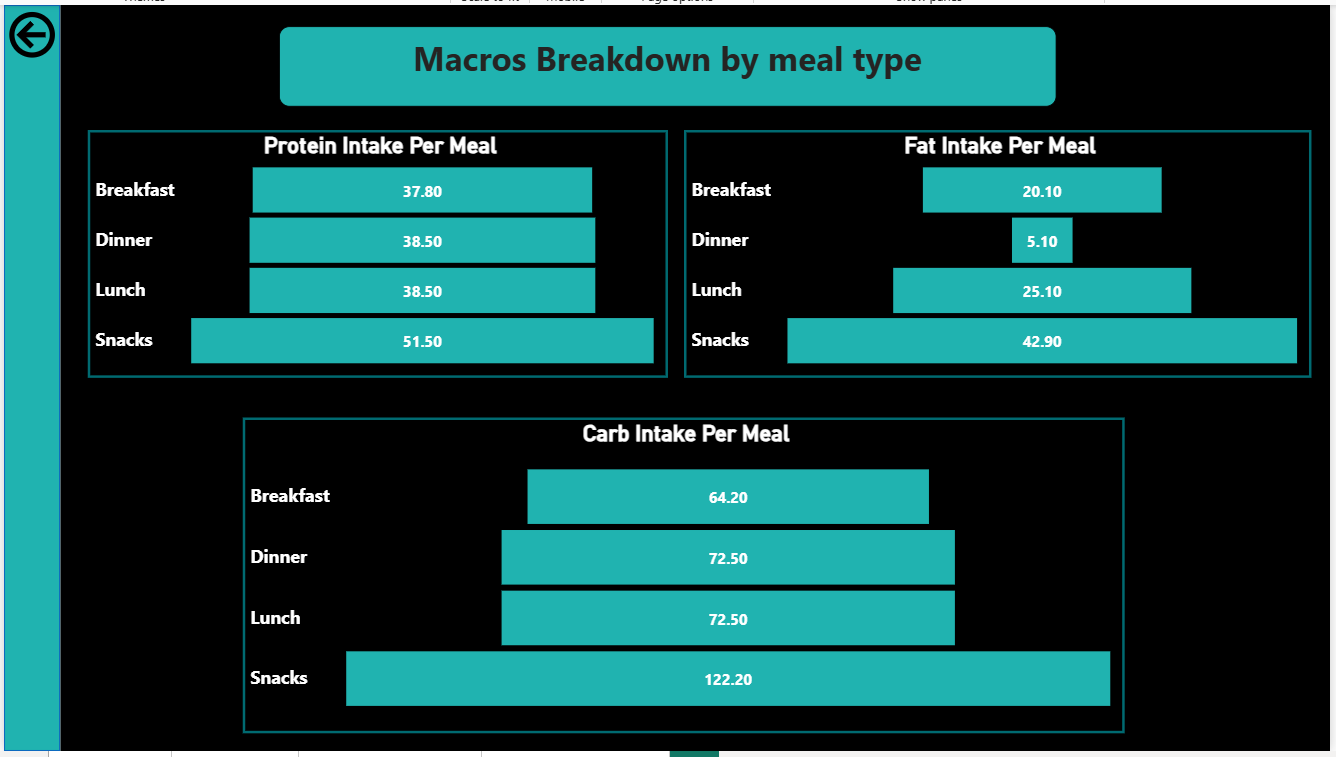

The dashboard page shown, as its layout file describes it:
{"tool":"powerbi","page":{"name":"Macros_Breakdown","canvas":[1280,720],"ordinal":2},"visuals":[{"type":"funnel","title":"Protein Intake Per Meal","fields":{"Y":["All_measure.Breakfast_Protein","All_measure.Dinner_Protein","All_measure.Lunch_Protein","All_measure.Snacks_Protein"]},"box":[70.5,77.1,560.9,303.4],"z":0},{"type":"funnel","title":"Carb Intake Per Meal","fields":{"Y":["All_measure.Breakfast_Carb","All_measure.Dinner_Carb","All_measure.Lunch_Carb","All_measure.Snacks_Carb"]},"box":[206.3,394.5,851.7,305.2],"z":1000},{"type":"funnel","title":"Fat Intake Per Meal","fields":{"Y":["All_measure.Breakfast_Fat","All_measure.Dinner_fats","All_measure.Lunch_Fat","All_measure.Snacks_Fats"]},"box":[656.3,77.2,604.4,304],"z":2000},{"type":"textbox","box":[222,0,750.4,56.7],"z":6000},{"type":"shape","box":[0,0,54.1,720],"z":7000},{"type":"actionButton","box":[0,19.7,54.1,57.4],"z":8000},{"type":"image","box":[432.5,370.3,147.8,84.3],"z":9000},{"type":"image","box":[805.5,67.7,52.5,62.2],"z":10000},{"type":"image","box":[157.5,67.7,107.8,52.5],"z":11000}]}

Visuals, with their boxes on the page's 1280x720 design canvas (x1, y1, x2, y2). These are canvas units, not pixel positions in the 1336x757 screenshot, which may show the page scaled, cropped or inside an application window:
"Protein Intake Per Meal" funnel: <region>70, 77, 631, 380</region>
"Carb Intake Per Meal" funnel: <region>206, 394, 1058, 700</region>
"Fat Intake Per Meal" funnel: <region>656, 77, 1261, 381</region>
textbox: <region>222, 0, 972, 57</region>
shape: <region>0, 0, 54, 720</region>
actionButton: <region>0, 20, 54, 77</region>
image: <region>432, 370, 580, 455</region>
image: <region>806, 68, 858, 130</region>
image: <region>158, 68, 265, 120</region>
